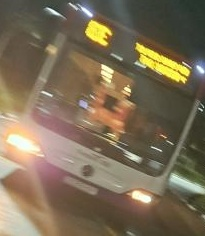bus: (78, 20, 115, 48)
